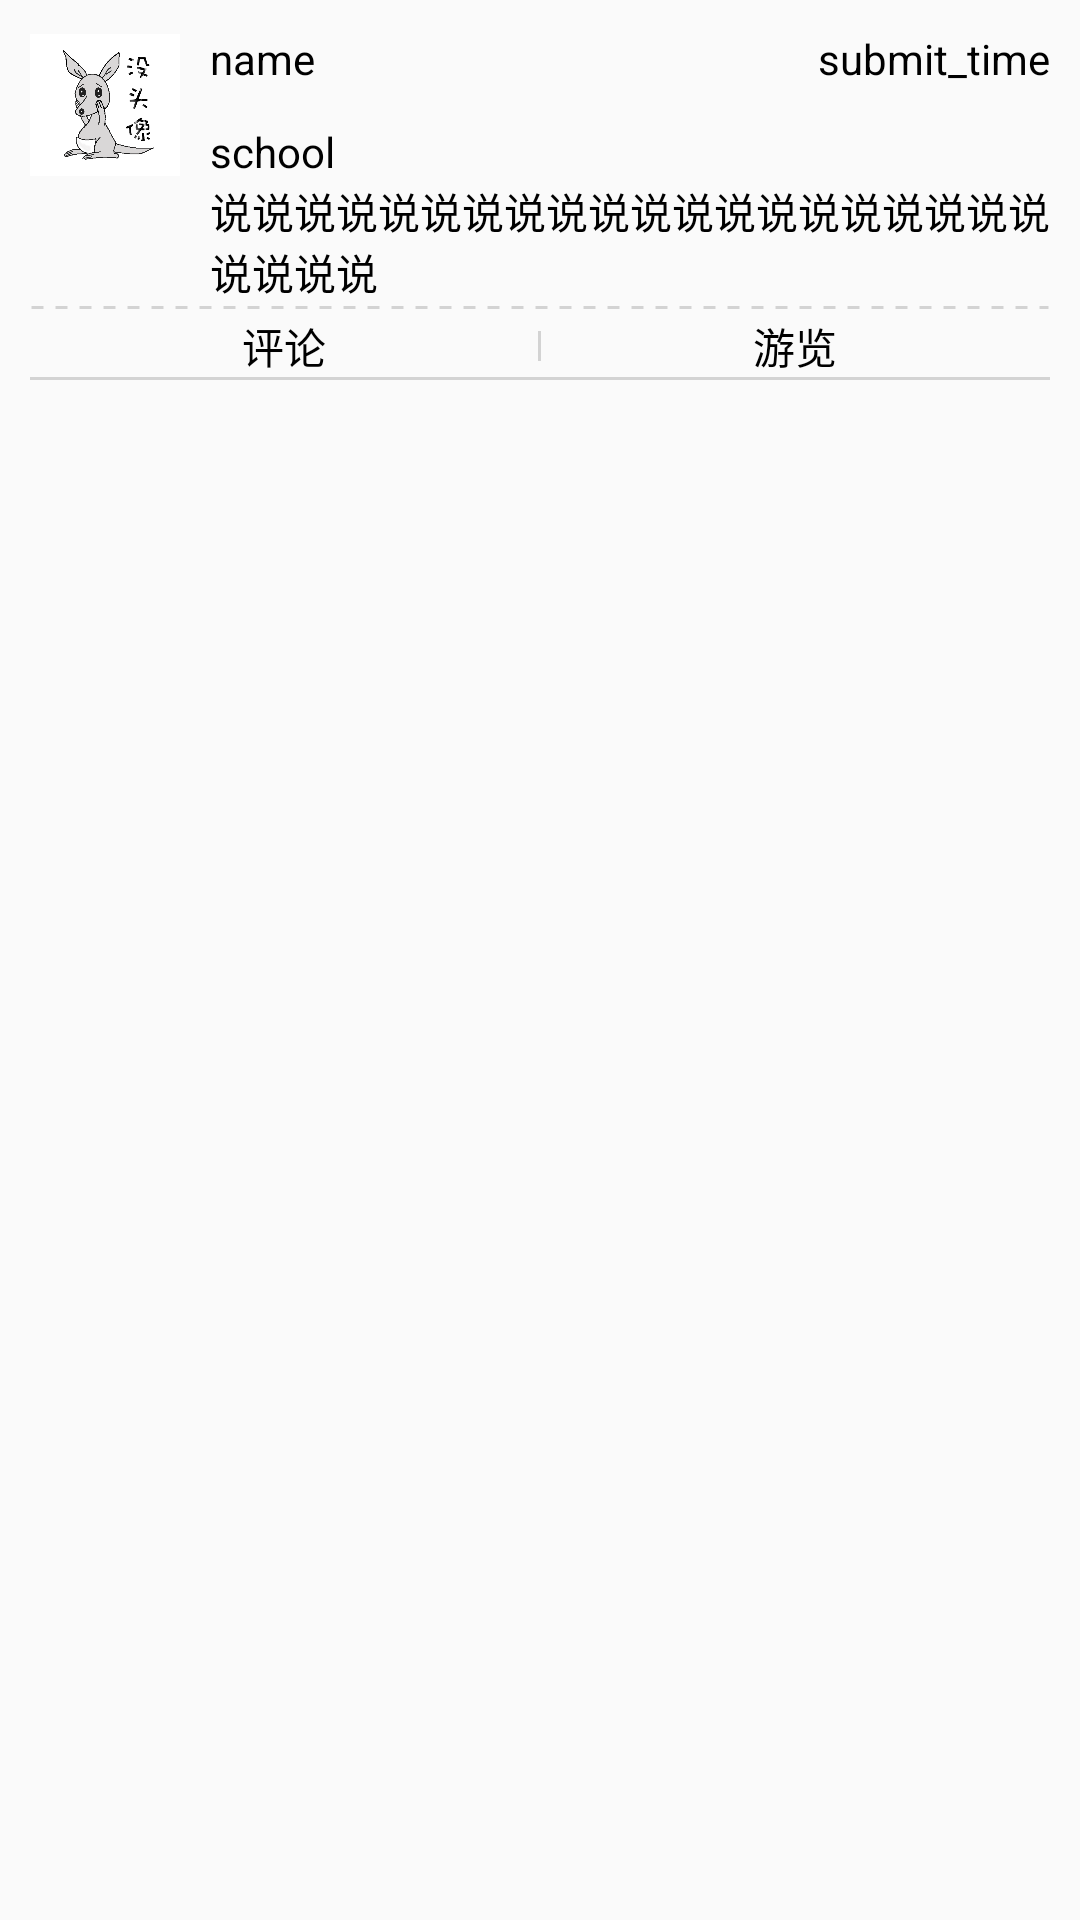

Screen size 1080*1920. Icon name, then its center in pixels as [x,y]:
kangaroo: [108,105]
